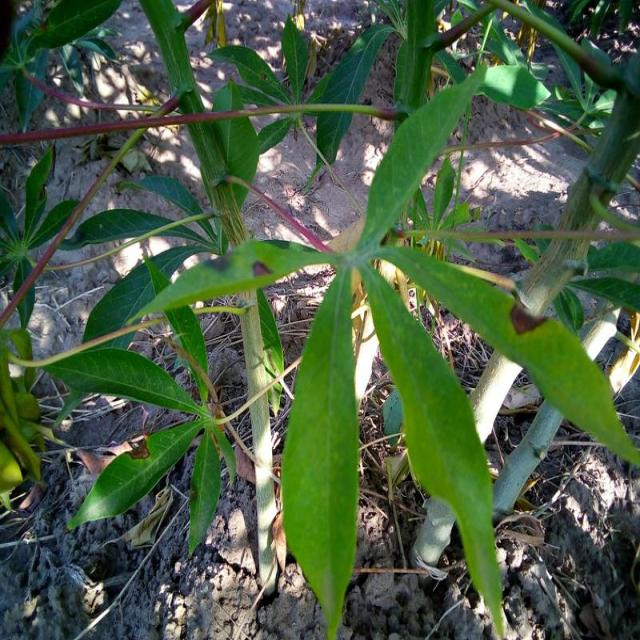cassava leaf: (1, 1, 638, 637), (373, 242, 638, 468), (358, 256, 506, 636), (280, 260, 360, 638)
